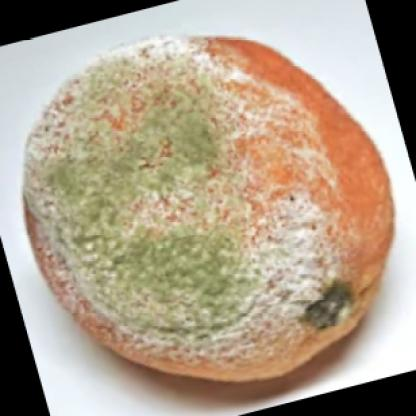rotten: (24, 39, 397, 382)
